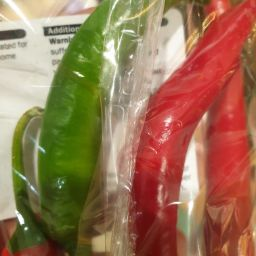Jalapeno pepper: (10, 8, 130, 256), (155, 4, 252, 256)
